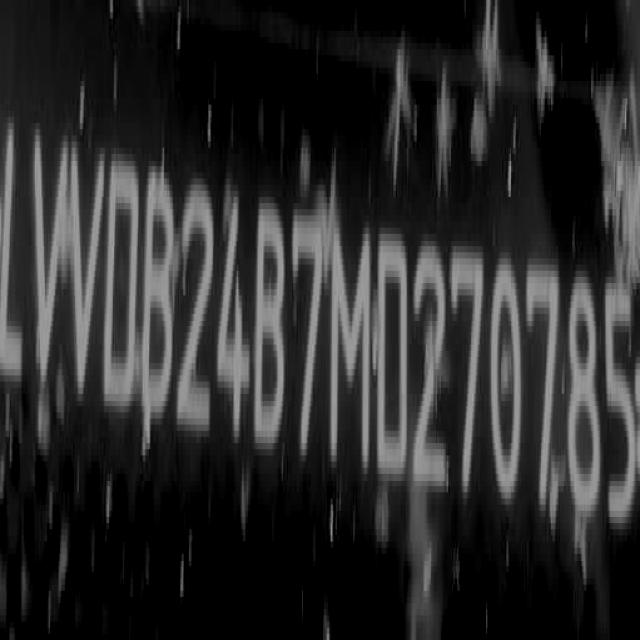0: (491, 248, 524, 509)
2: (180, 170, 216, 448), (414, 236, 448, 498)
4: (216, 182, 251, 452)
5: (605, 274, 639, 540)
7: (293, 200, 330, 474), (453, 238, 486, 507), (527, 248, 560, 515)
8: (567, 265, 602, 529)
B: (254, 192, 289, 458), (143, 169, 176, 424)
D: (105, 140, 142, 418), (377, 226, 412, 492)
L: (0, 104, 26, 400)
M: (330, 208, 374, 482)
V: (28, 139, 68, 392), (69, 144, 105, 410)
